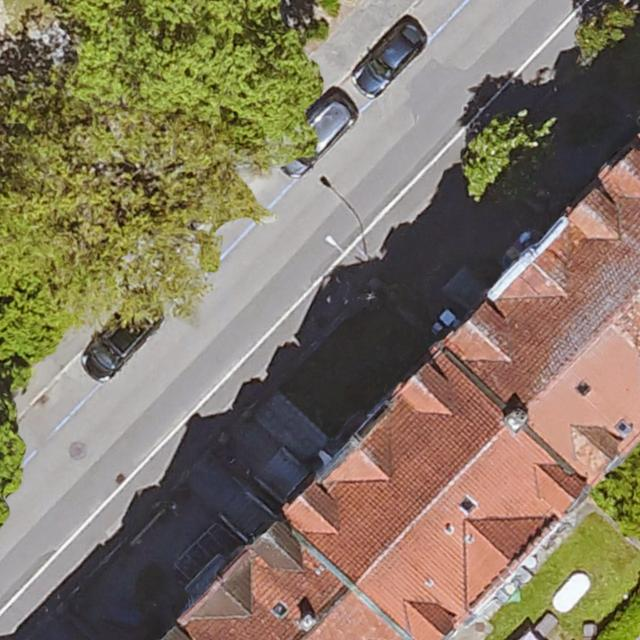tree: (56, 0, 316, 153), (0, 136, 221, 313), (463, 114, 559, 205), (0, 375, 25, 554), (599, 442, 640, 538), (576, 3, 638, 65)
